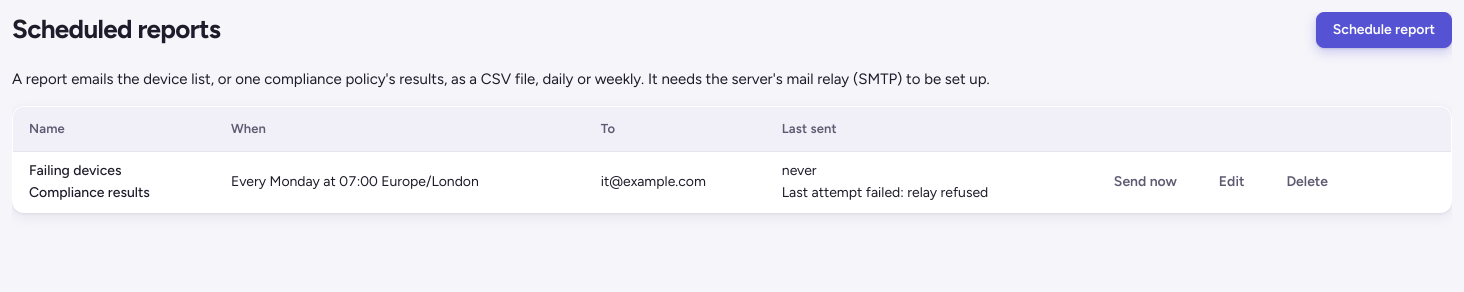
it: Reports › lists reports, with a failed last attempt, and sends one now
Check: the text "Failing devices" is shown, box [29,162,122,179]
Check: the text "Every Monday at 07:00 Europe/London" is shown, box [215,152,585,212]
Click the button "Send now" at (1145, 182), box [1097,164,1194,200]
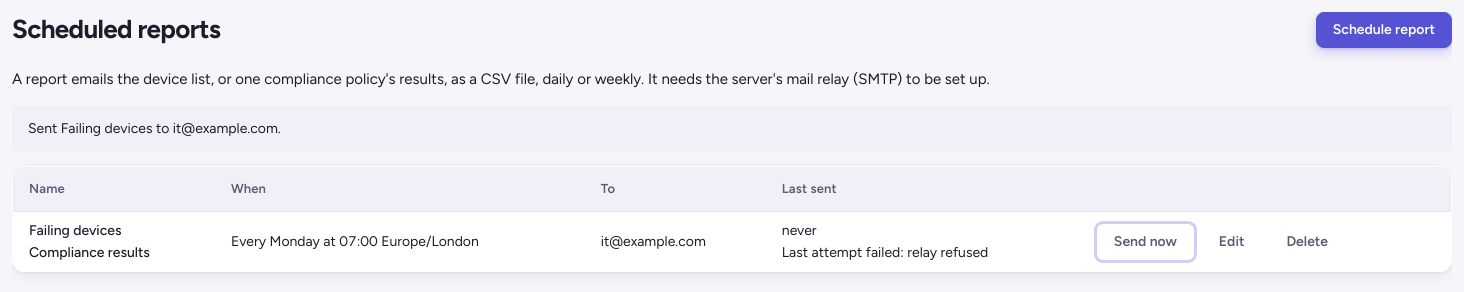
Check: the text "Sent Failing devices to it@example.com." is shown, box [12,106,1452,152]
